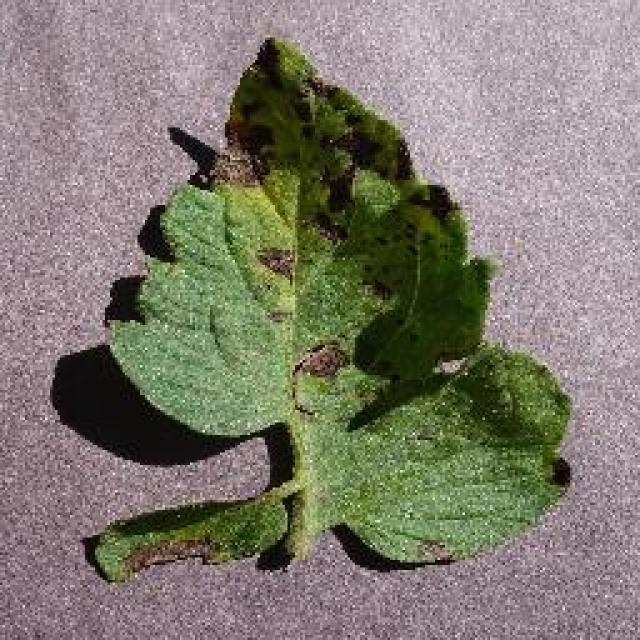Tomato Early blight leaf: (87, 38, 577, 585)
